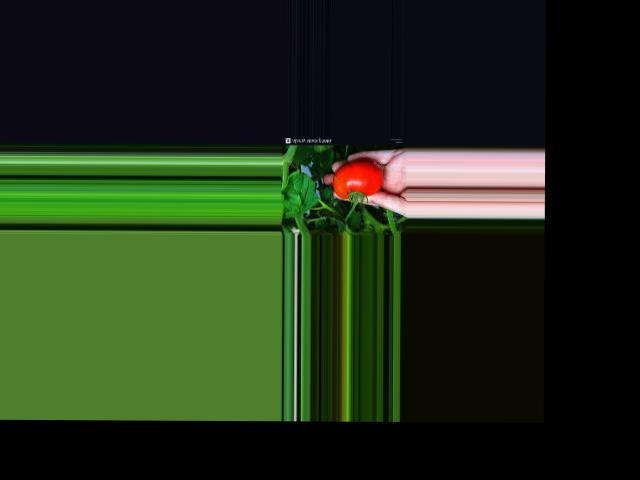tomato: (333, 159, 384, 198)
